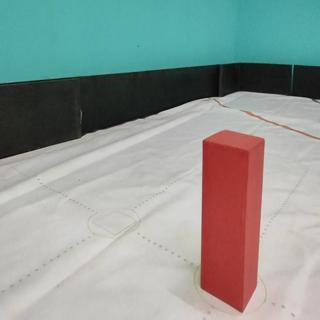redbox: (202, 128, 265, 312)
